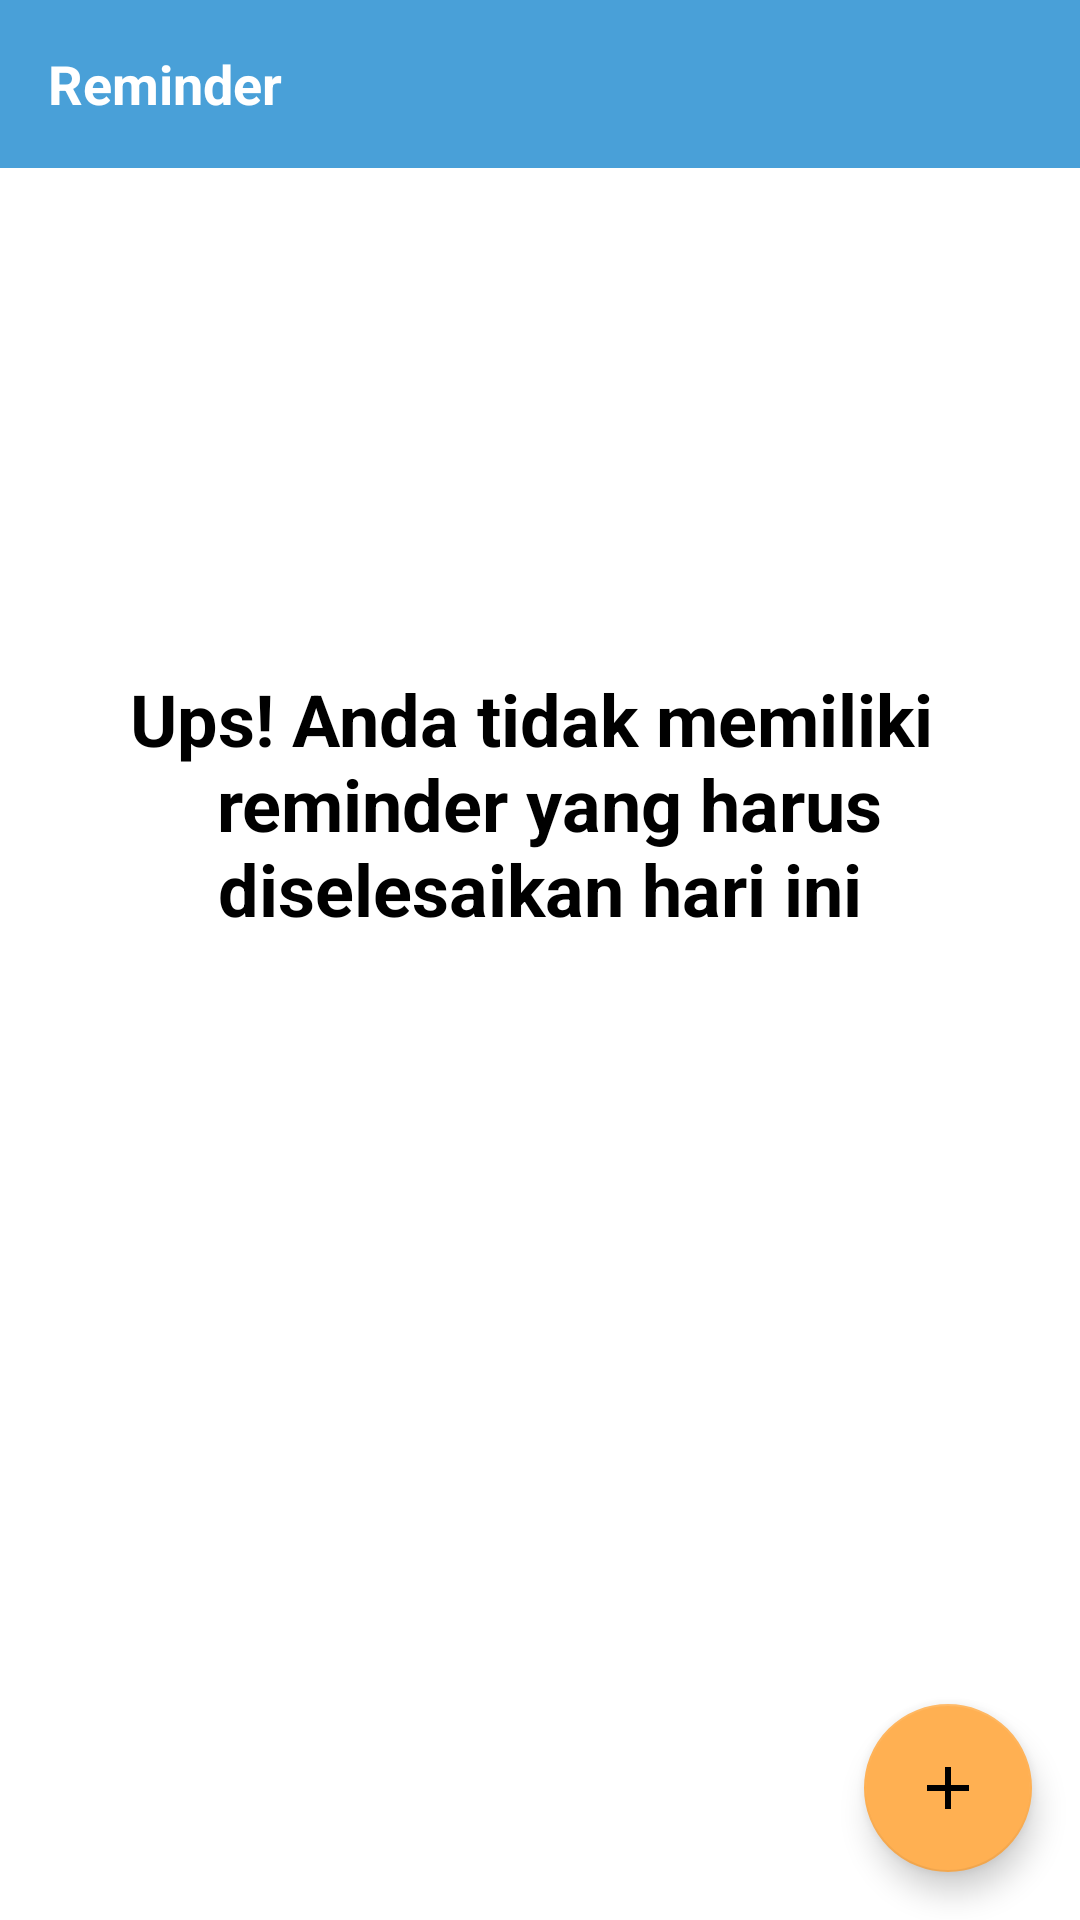

Point at icon controls on the screen. Image size 1080 × 1920, points as (x=x, y=y).
New Task: (x=948, y=1788)
